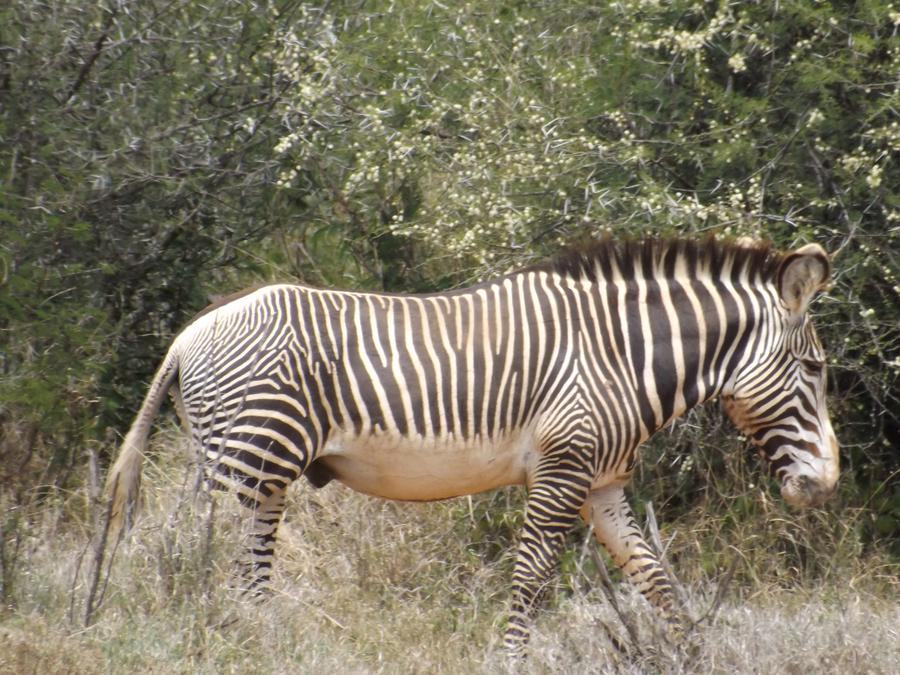zebra_grevys: (171, 282, 615, 490)
